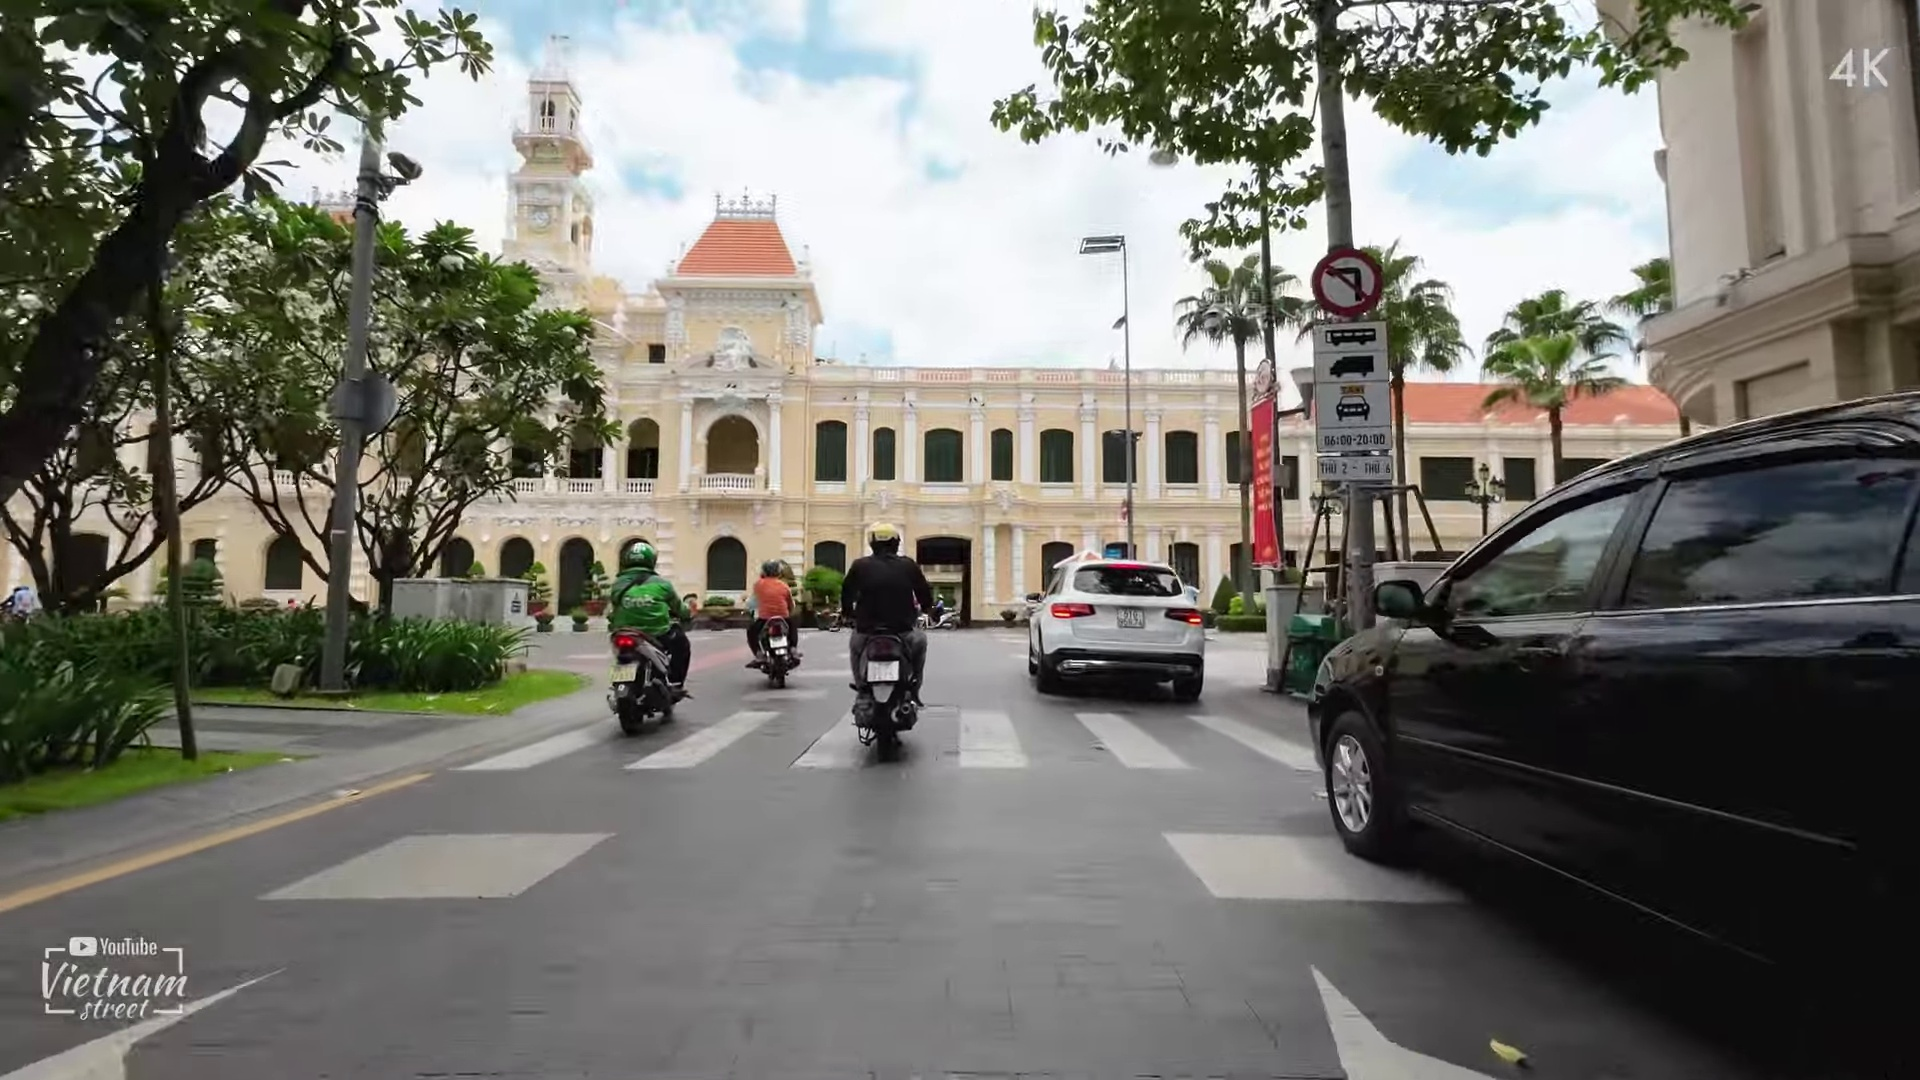cam_re_trai: (1307, 245, 1391, 319)
